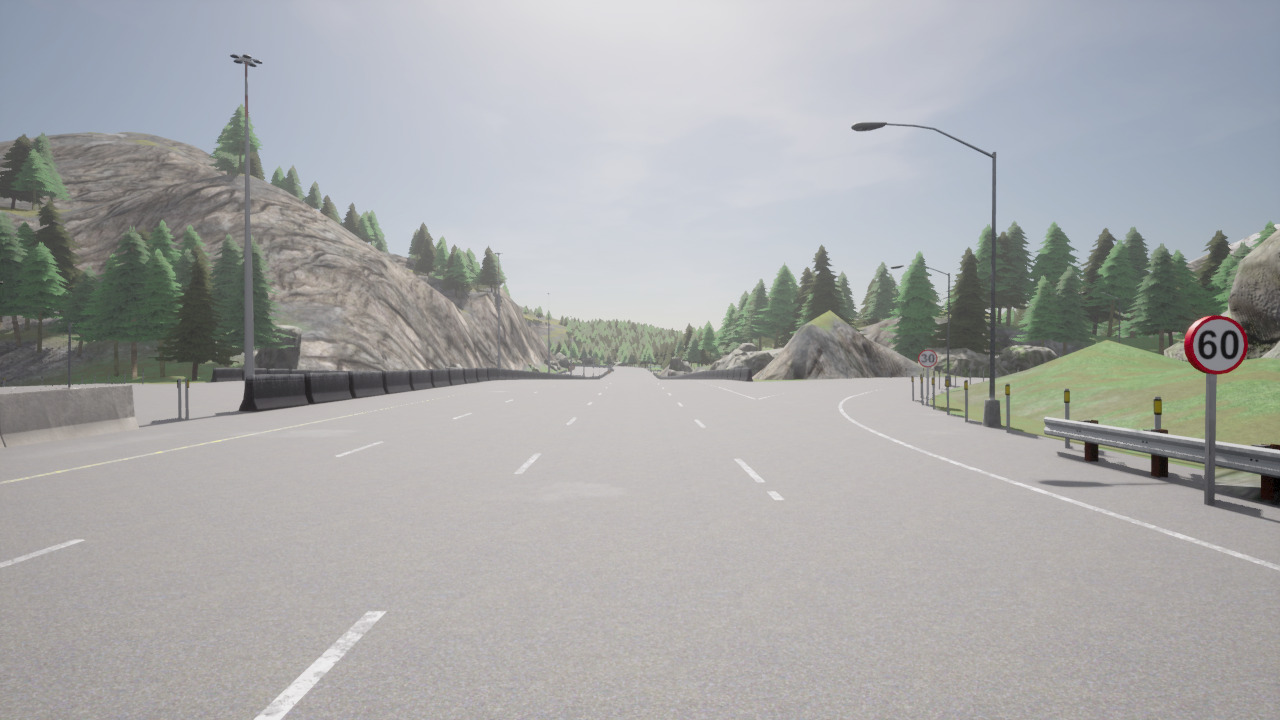sl30: (917, 349, 938, 369)
sl60: (1183, 314, 1249, 376)
